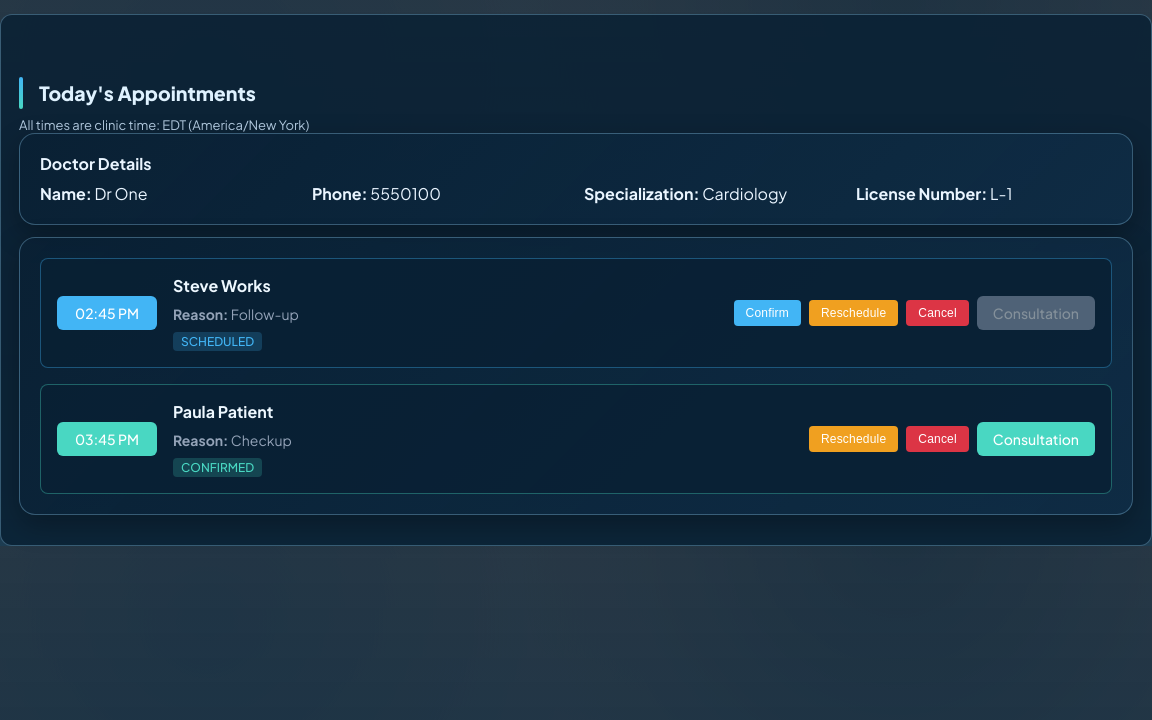
it: TodayAppointmentsPage › opens the reschedule dialog for the visit
What coordinates should you click on to do the following:
click the button "Reschedule" in the row of "Checkup"
I would click on:
 (854, 439)
Its box is [809,426,898,452].
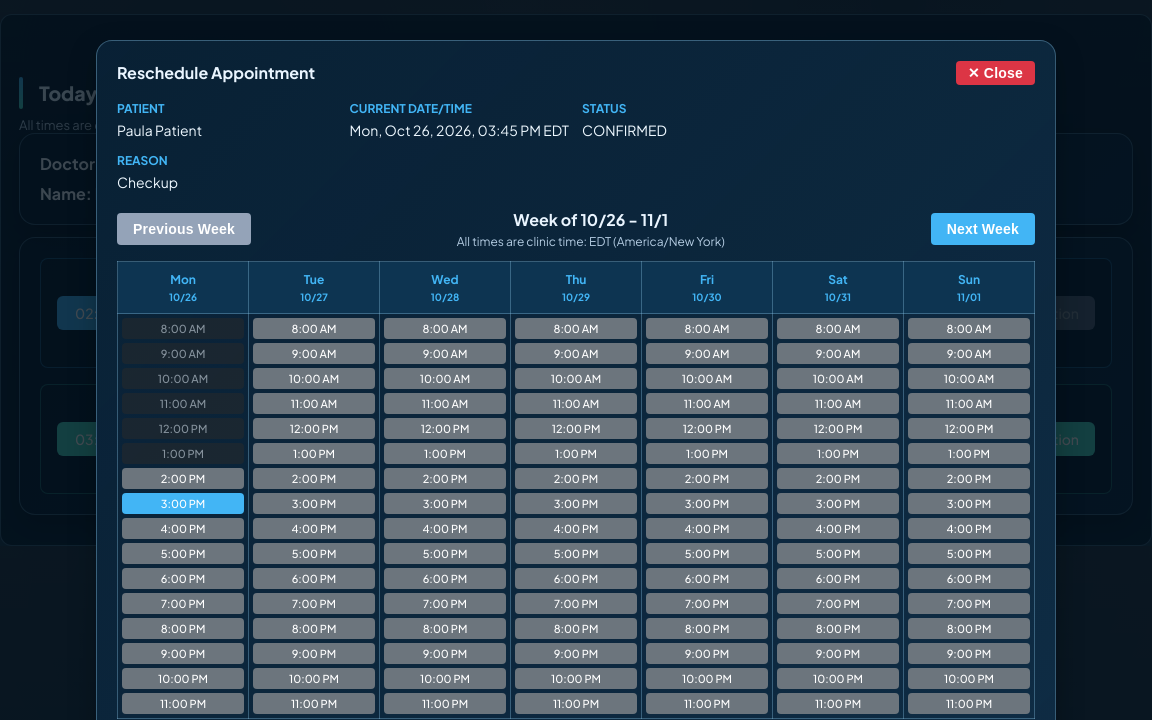
Expected: the text "Paula Patient" is shown, [117,121,202,139]
